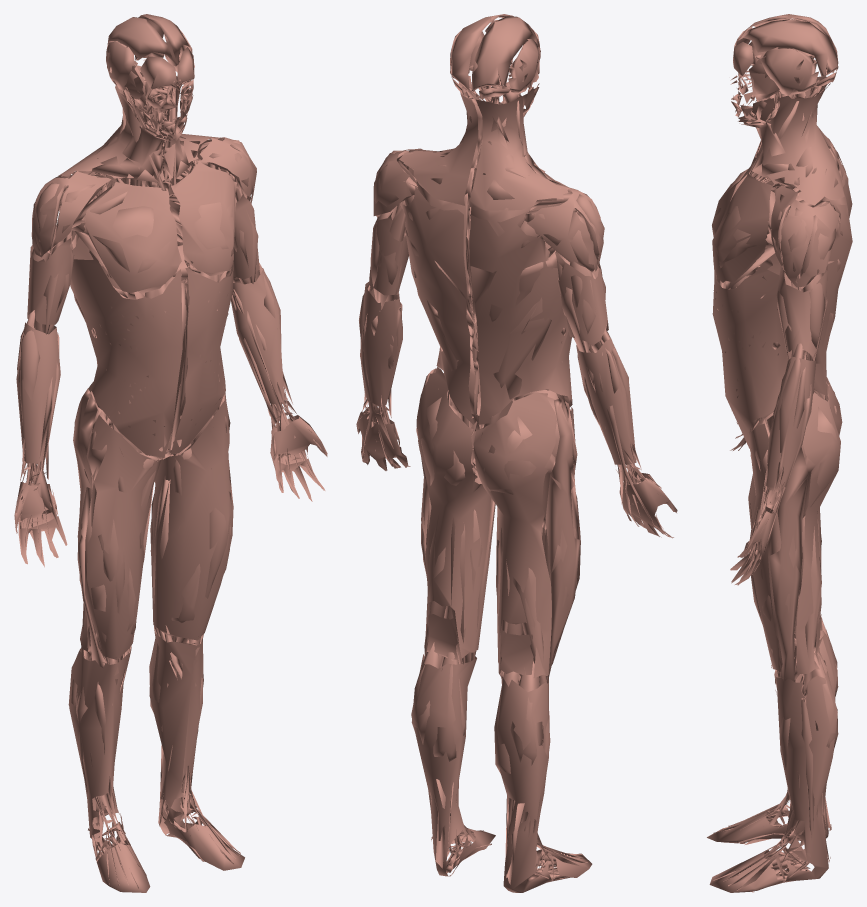
The model's file is muscles.glb.
3 views of the same model, side by side, from view 1: azimuth 30°, elevation 25°; view 2: azimuth 150°, elevation 25°; view 3: azimuth 270°, elevation 25° (orthographic). The views are drawn at different scales.
Parts seen in each view (by area): view 1: muscles; view 2: muscles; view 3: muscles.
Boxes of the visible parts, x1,y1,x2,y2 form: muscles: [14, 14, 327, 892]; muscles: [356, 14, 677, 892]; muscles: [707, 14, 852, 892].
Size of the model in its own units: 0.6649 by 1.7 by 0.2672.
